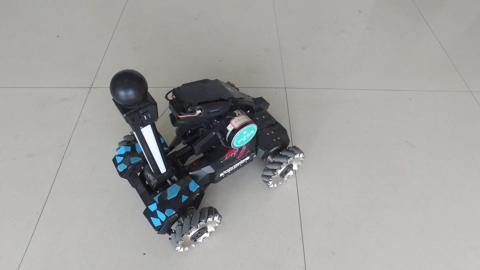chariot: (77, 47, 305, 249)
